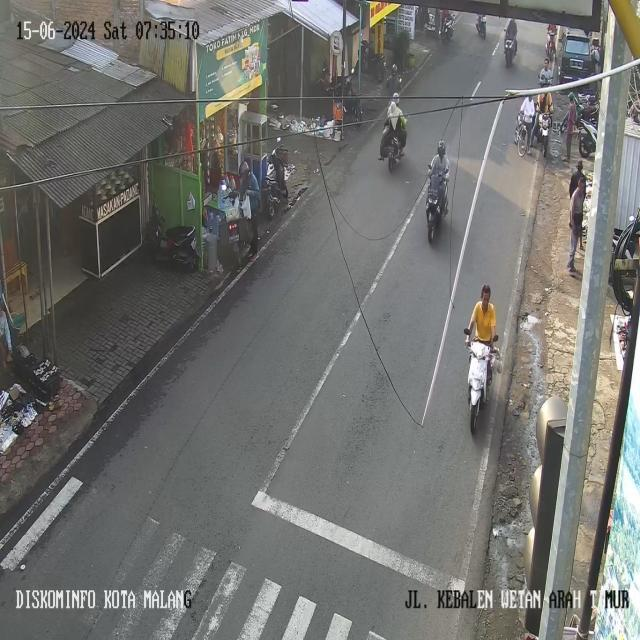Helmet: (437, 140, 445, 157), (588, 95, 596, 105), (392, 92, 399, 103), (391, 64, 397, 73)
Rearview Mirror: (463, 328, 470, 335), (493, 335, 498, 341)
